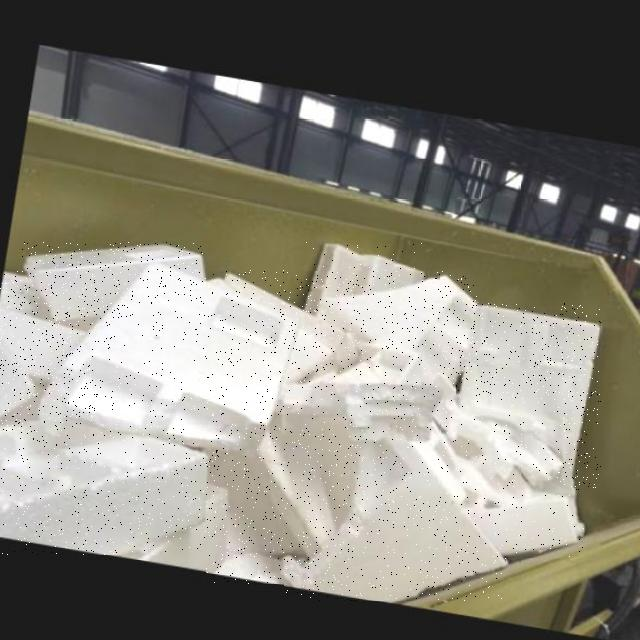styrofoam: (37, 269, 299, 451), (285, 433, 506, 601), (0, 422, 208, 555), (456, 303, 601, 491), (225, 271, 454, 387), (206, 428, 354, 583), (316, 273, 477, 379), (411, 397, 563, 504), (0, 271, 99, 423), (23, 242, 204, 321), (276, 379, 444, 439), (304, 242, 424, 313), (463, 488, 585, 557)
